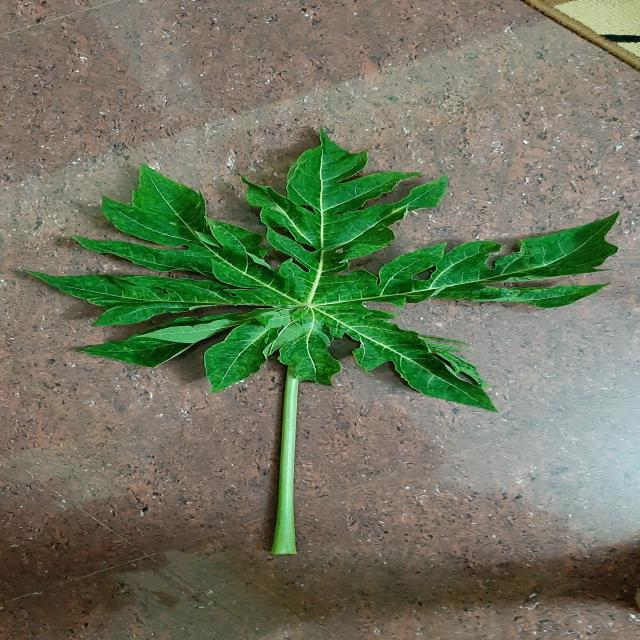papaya: (33, 131, 615, 410)
